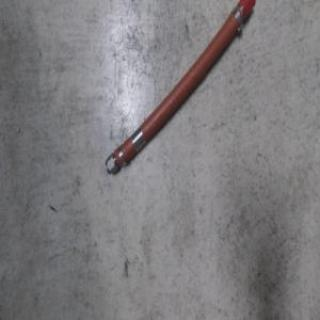Hosetrack_idkeyframe: (101, 0, 253, 179)
